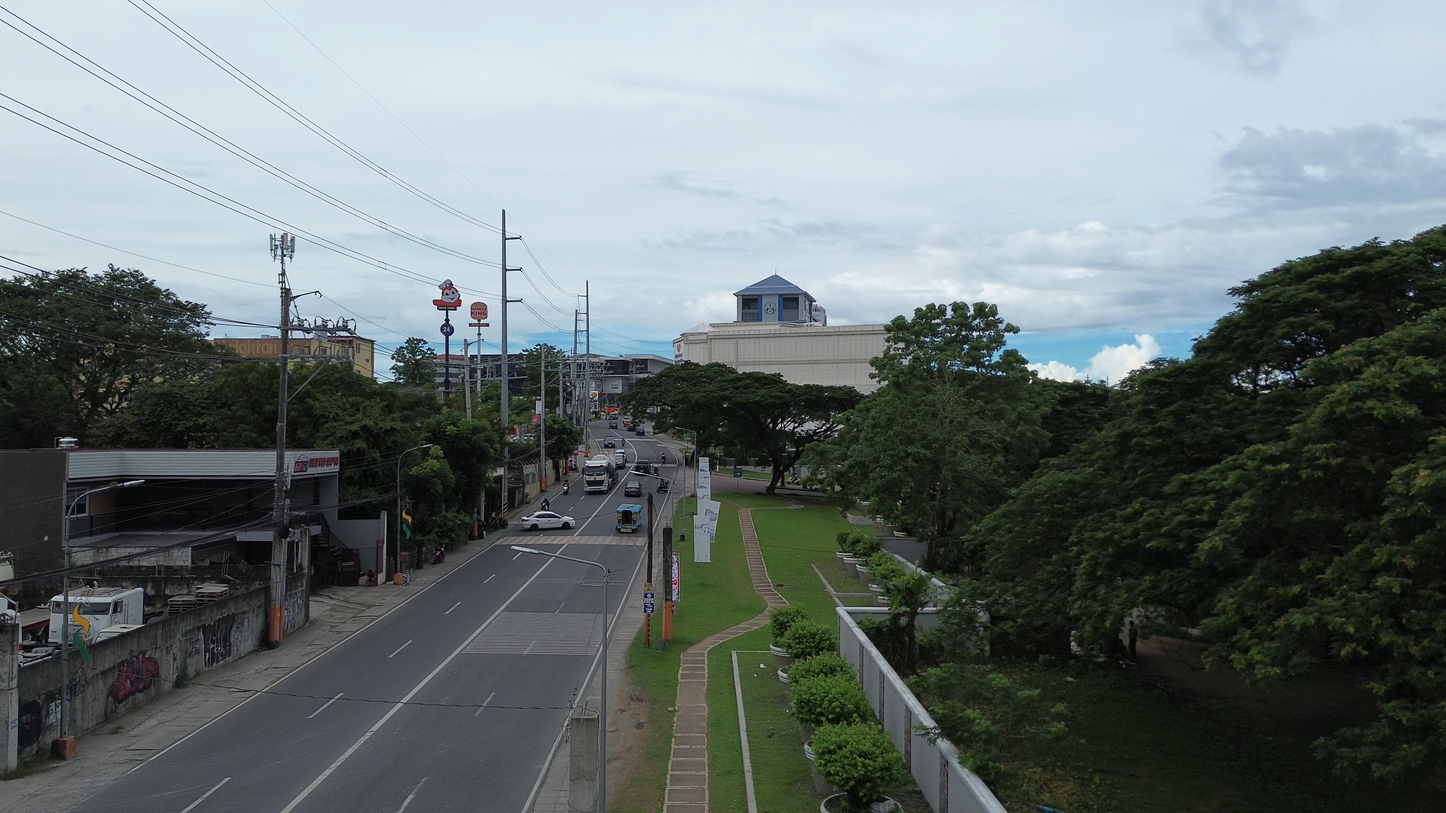car: (522, 511, 574, 530), (614, 449, 627, 466), (603, 436, 616, 448), (608, 420, 618, 428)
vehicle: (69, 588, 143, 641), (584, 455, 616, 493), (95, 624, 143, 642), (616, 504, 643, 533), (624, 481, 642, 496), (613, 449, 627, 466), (656, 478, 670, 492), (603, 436, 616, 448), (635, 426, 645, 436), (608, 420, 618, 429)
